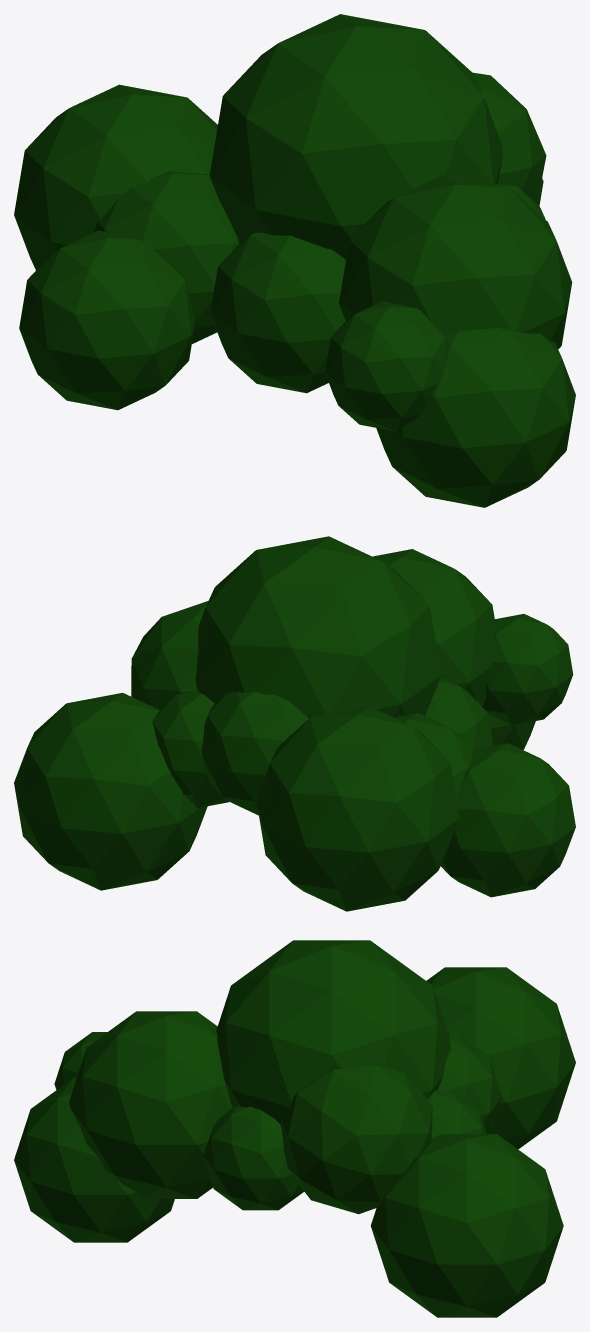
3 views of the same model, one above another, from view 1: azimuth 30°, elevation 25°; view 2: azimuth 150°, elevation 25°; view 3: azimuth 270°, elevation 25° (orthographic). The views are drawn at different scales.
Visible parts, largest first — view 1: Cube; view 2: Cube; view 3: Cube.
Part boxes in pixels (<box>): Cube: <box>14,14,575,507</box>; Cube: <box>14,536,575,911</box>; Cube: <box>14,940,575,1317</box>.
Size of the model in its own units: 280 by 177 by 296.
